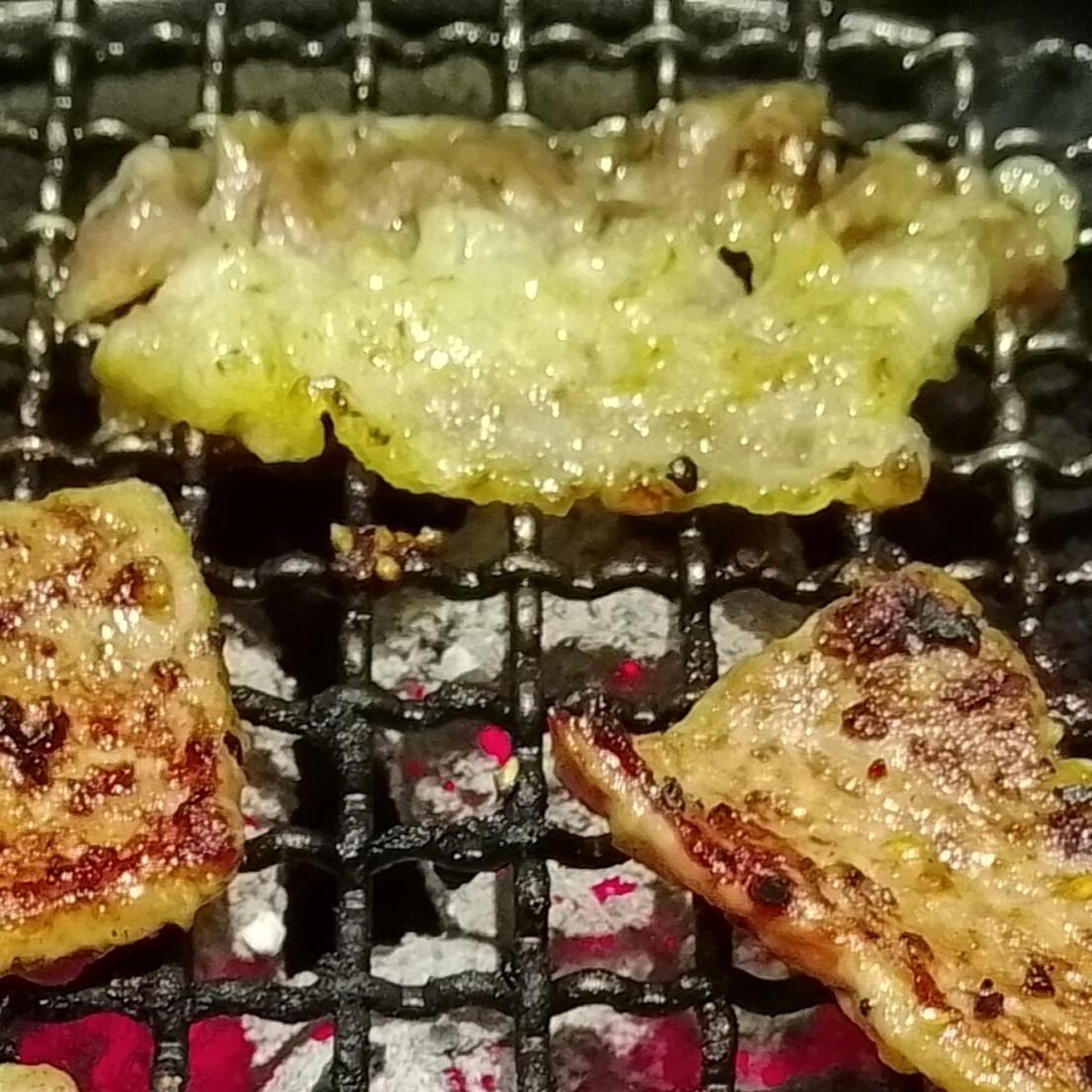Overcooked: (548, 570, 1091, 1091), (0, 482, 249, 995)
Well-Cooked: (65, 82, 1077, 519)
